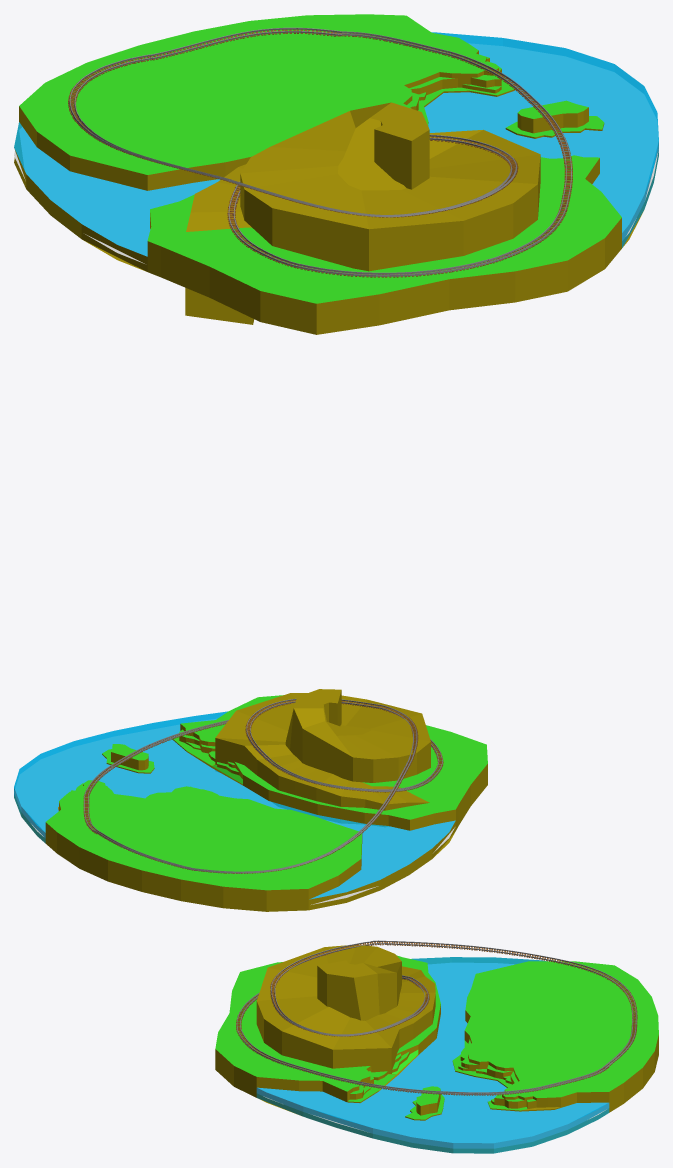
Rendered from train-mou.glb.
The picture shows the model from 3 angles, top to bottom: view 1: azimuth 30°, elevation 25°; view 2: azimuth 150°, elevation 25°; view 3: azimuth 270°, elevation 25°; orthographic projection. The views are drawn at different scales.
Parts seen in each view (by area): view 1: Circle, mountain, backup, track object; view 2: Circle, mountain, backup, track object; view 3: Circle, mountain, backup, track object.
Boxes of the visible parts, x1,y1,x2,y2 form: Circle: (14,14,658,334); mountain: (185,102,540,324); backup: (14,44,658,263); track object: (68,27,572,277); Circle: (14,695,487,911); mountain: (215,689,430,826); backup: (14,719,455,904); track object: (83,698,443,873); Circle: (215,955,658,1153); mountain: (256,944,435,1073); backup: (257,963,608,1147); track object: (236,940,637,1095).
Size of the model in its own units: 21.17 by 10.65 by 30.88.
